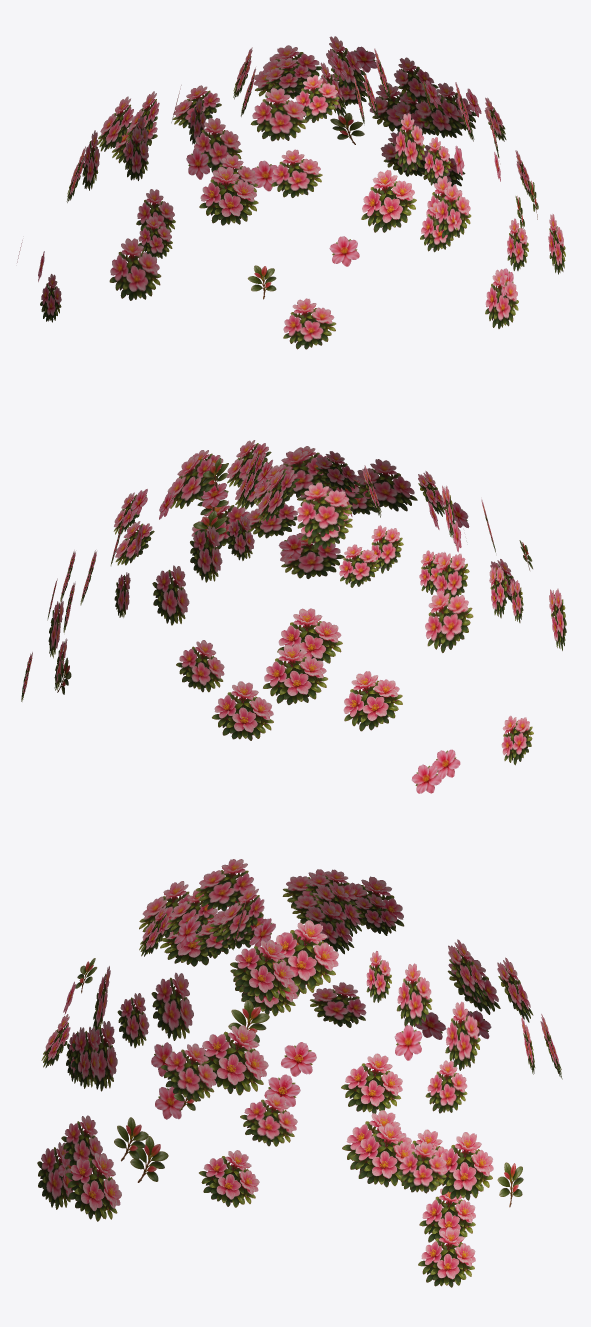
The model's file is azalea_small.glb.
3 renders of one model, top to bottom at view 1: azimuth 30°, elevation 25°; view 2: azimuth 150°, elevation 25°; view 3: azimuth 270°, elevation 25°, orthographic. The views are drawn at different scales.
Visible parts, largest first — view 1: azalea_small; view 2: azalea_small; view 3: azalea_small.
Part boxes in pixels (x1=…): azalea_small: x1=17, y1=36, x2=565, y2=349; azalea_small: x1=21, y1=440, x2=566, y2=793; azalea_small: x1=37, y1=859, x2=562, y2=1287.
Bounding box in the file's own units: 1.14 × 0.6838 × 1.03.
Materials: 3 (3 with a texture image).
